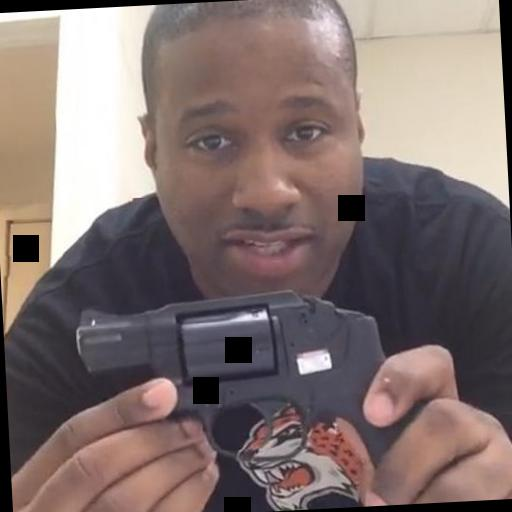Handgun: (68, 275, 436, 512)
